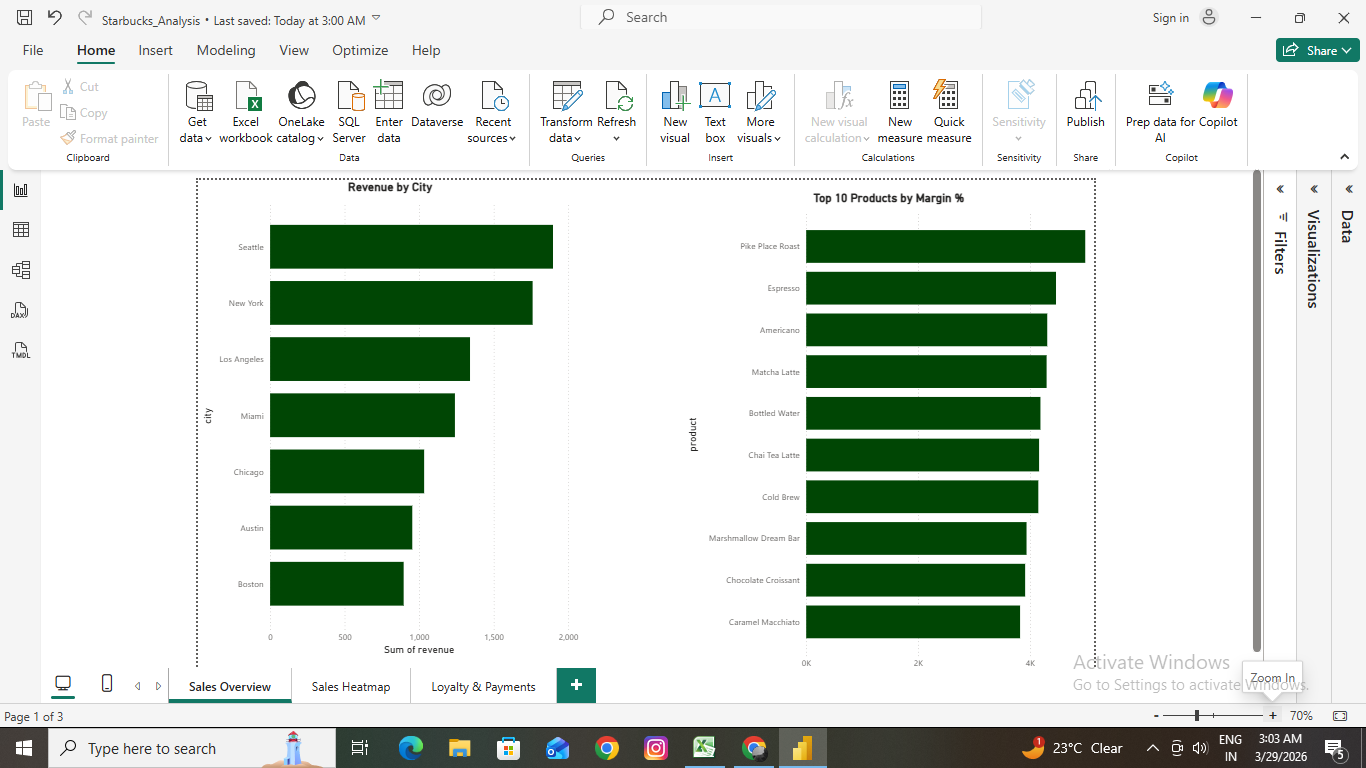

This screenshot's page, from the dashboard's own definition file:
{"tool":"powerbi","page":{"name":"Sales Overview","canvas":[1280,720],"ordinal":0},"visuals":[{"type":"barChart","title":"Revenue by City","fields":{"Category":["Sheet1.city"],"Y":["Sum(Sheet1.revenue)"]},"box":[0,0,549.1,683.8],"z":0},{"type":"clusteredBarChart","title":"Top 10 Products by Margin %","fields":{"Category":["Sheet1.product"],"Y":["Sum(Sheet1.margin_pct)"]},"box":[692.2,15.2,587.8,705.7],"z":1}]}

Visuals, with their boxes on the page's 1280x720 design canvas (x1, y1, x2, y2). These are canvas units, not pixel positions in the 1366x768 screenshot, which may show the page scaled, cropped or inside an application window:
"Revenue by City" barChart: x1=0, y1=0, x2=549, y2=684
"Top 10 Products by Margin %" clusteredBarChart: x1=692, y1=15, x2=1280, y2=721
